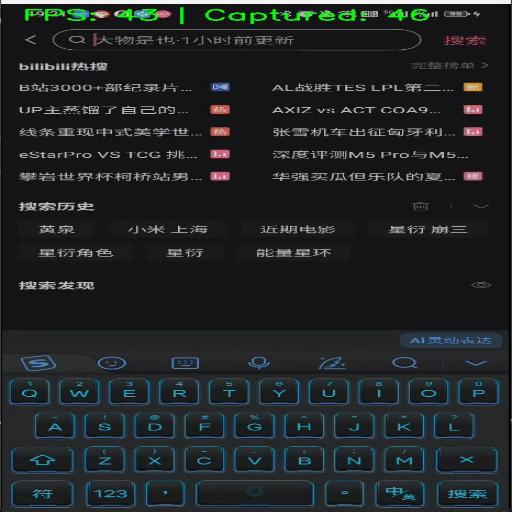back: (457, 353, 500, 372), (17, 31, 51, 54)
input: (56, 32, 420, 50)
